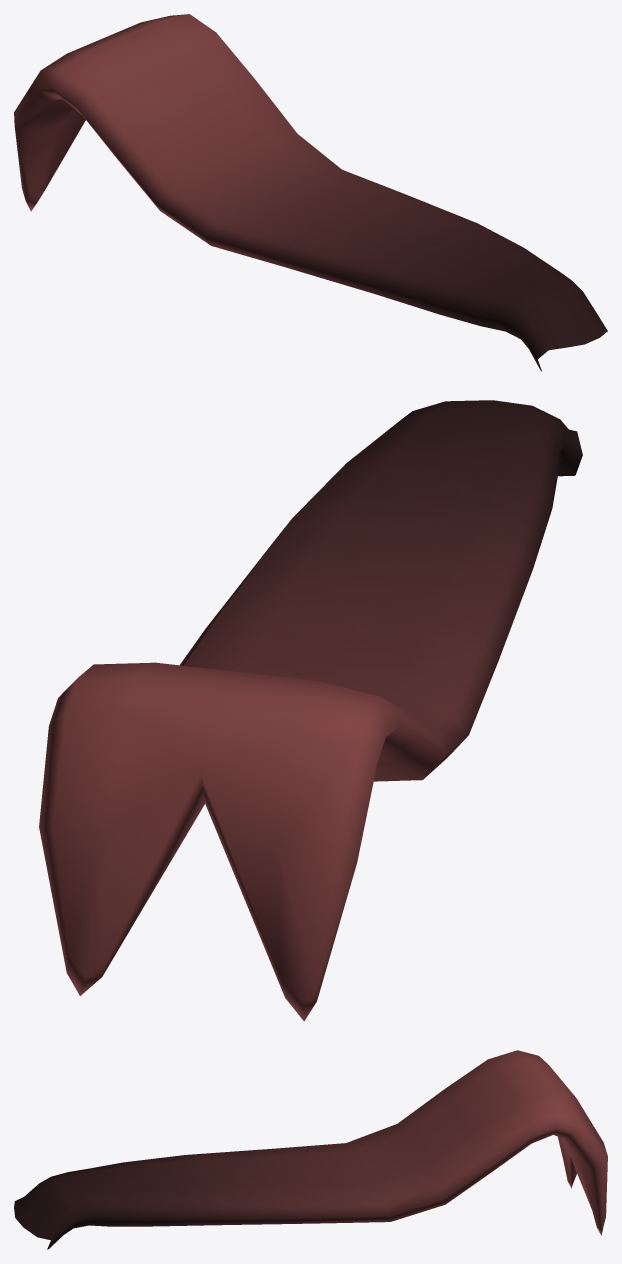
Rendered from forked.glb.
The picture shows the model from 3 angles, top to bottom: view 1: azimuth 30°, elevation 25°; view 2: azimuth 150°, elevation 25°; view 3: azimuth 270°, elevation 25°; orthographic projection. The views are drawn at different scales.
Parts seen in each view (by area): view 1: cc_forked4; view 2: cc_forked4; view 3: cc_forked4.
Part boxes in pixels (bbox=[...]): cc_forked4: bbox=[14, 14, 607, 371]; cc_forked4: bbox=[39, 400, 582, 1021]; cc_forked4: bbox=[14, 1050, 607, 1249].
Bounding box in the file's own units: 0.0748 × 0.045 × 0.1721.
Materials: 1 (1 with a texture image).
